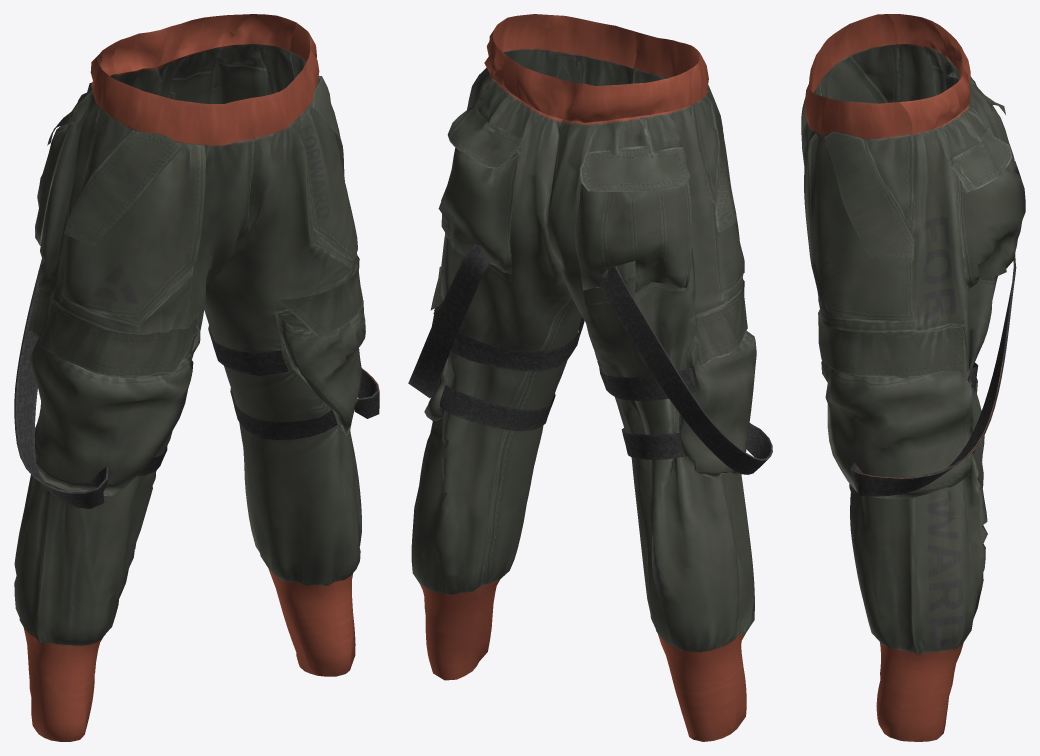
3 views of the same model, side by side, from view 1: azimuth 30°, elevation 25°; view 2: azimuth 150°, elevation 25°; view 3: azimuth 270°, elevation 25° (orthographic). The views are drawn at different scales.
Parts seen in each view (by area): view 1: techtrousers2; view 2: techtrousers2; view 3: techtrousers2.
Boxes of the visible parts, <box> form: techtrousers2: <box>14,14,379,741</box>; techtrousers2: <box>408,14,772,741</box>; techtrousers2: <box>801,14,1025,741</box>.
Size of the model in its own units: 1.09 by 2 by 0.6588.
Materials: 1 (1 with a texture image).
